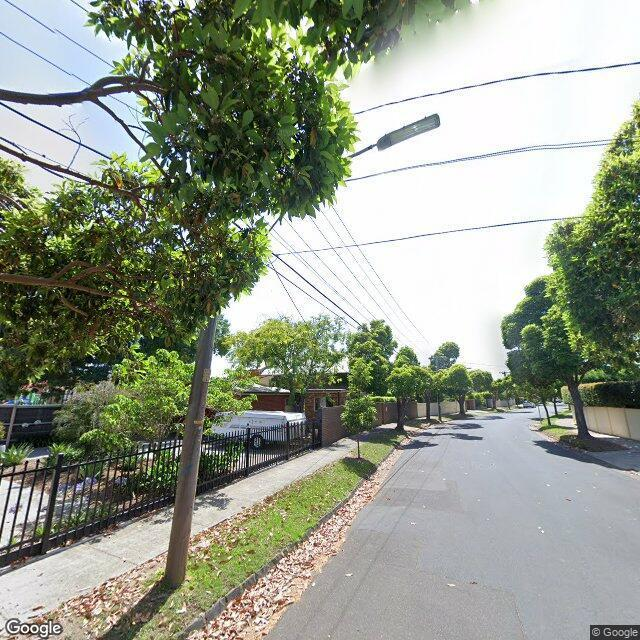streetlight: (210, 113, 441, 317)
timber-pole: (162, 306, 216, 584)
